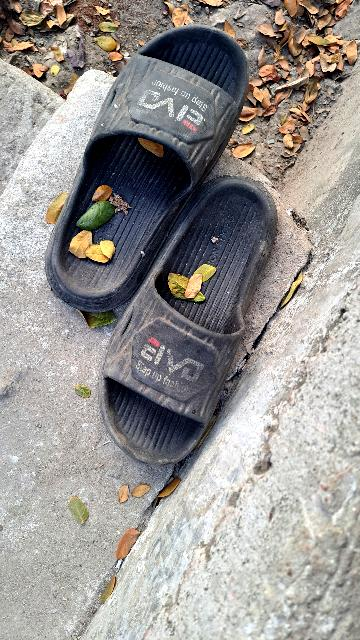sandal: (29, 14, 299, 341), (79, 152, 311, 479)
